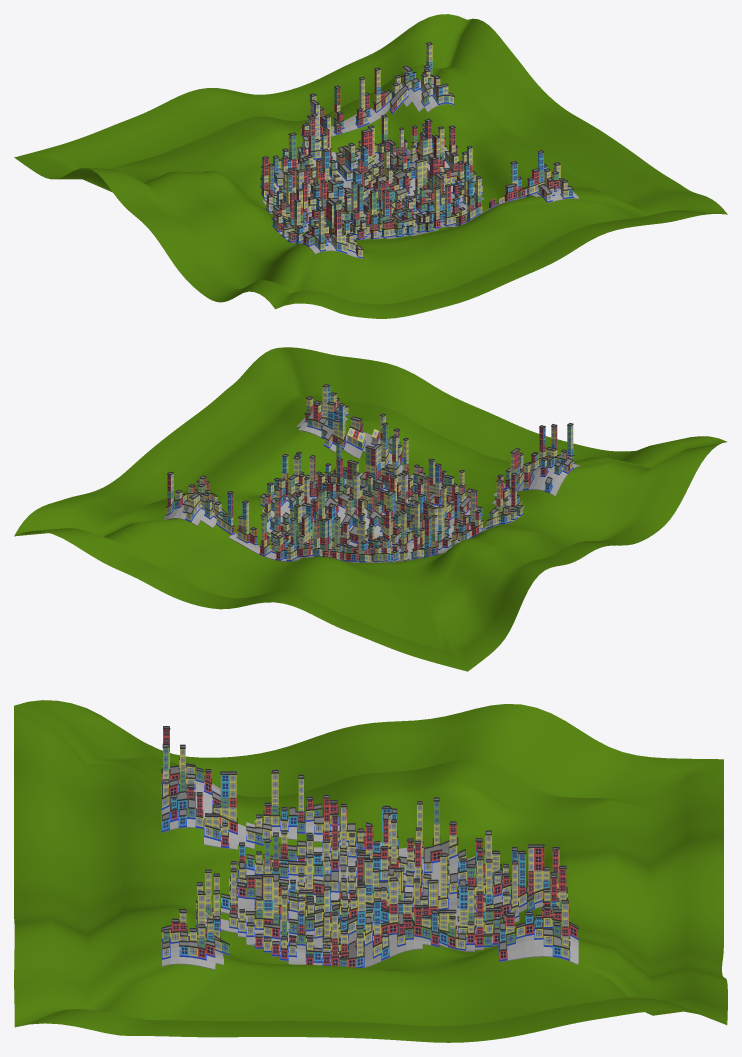
The model's file is city lol.fbx.
3 renders of one model, top to bottom at view 1: azimuth 30°, elevation 25°; view 2: azimuth 150°, elevation 25°; view 3: azimuth 270°, elevation 25°, orthographic. The views are drawn at different scales.
Parts seen in each view (by area): view 1: terrain, city2; view 2: terrain, city2; view 3: terrain, city2.
Boxes of the visible parts, bbox=[...] form: terrain: bbox=[14, 14, 727, 318]; city2: bbox=[260, 42, 579, 258]; terrain: bbox=[14, 347, 726, 671]; city2: bbox=[164, 384, 580, 562]; terrain: bbox=[14, 700, 727, 1042]; city2: bbox=[161, 726, 578, 969].
Bounding box in the file's own units: 17200 × 3126 × 17213.
